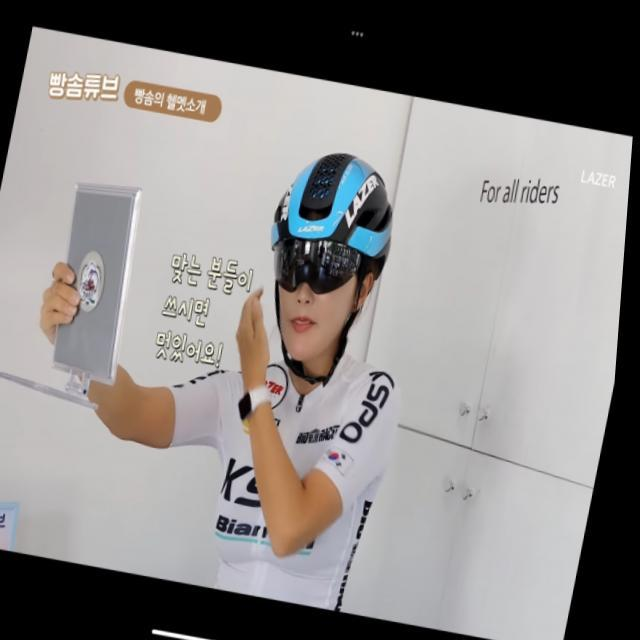Helmet: (265, 148, 396, 373)
